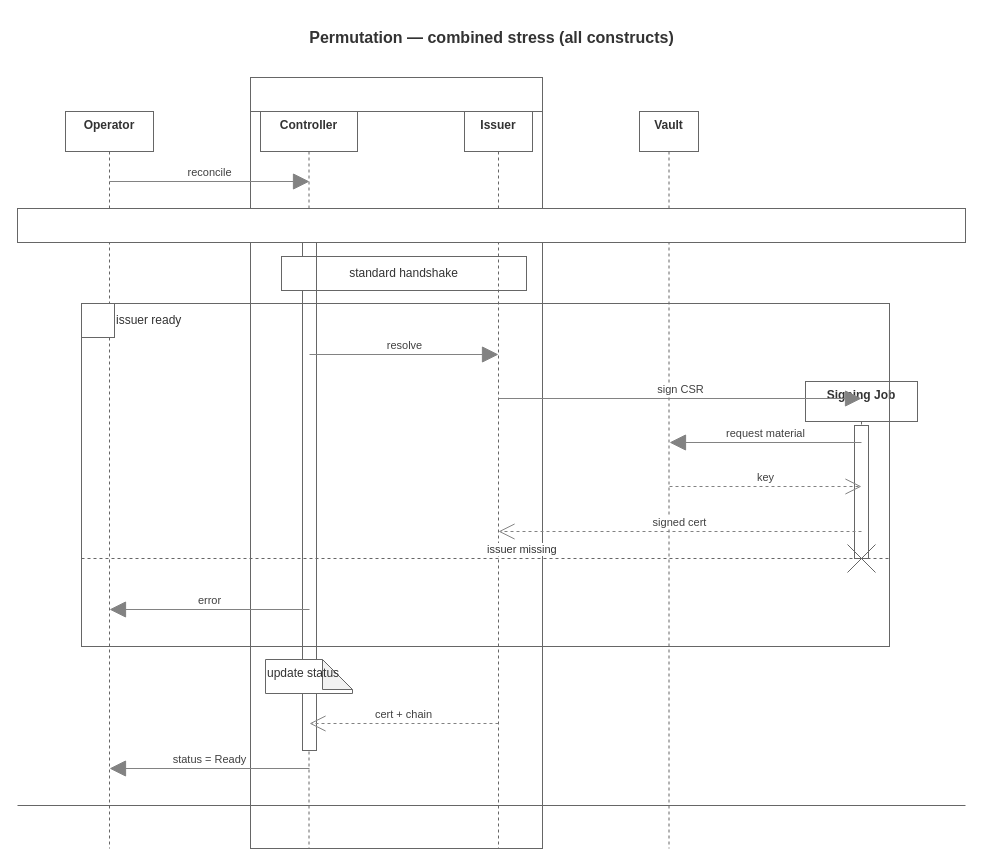
Image size: 984x866. Some labels were removed from this diagram. Each missing label, with the centre of its shape:
"alt" goes at point 97,320.
"control plane" goes at point 396,94.
"Issuance" goes at point 491,225.
"ref" goes at point 298,273.
